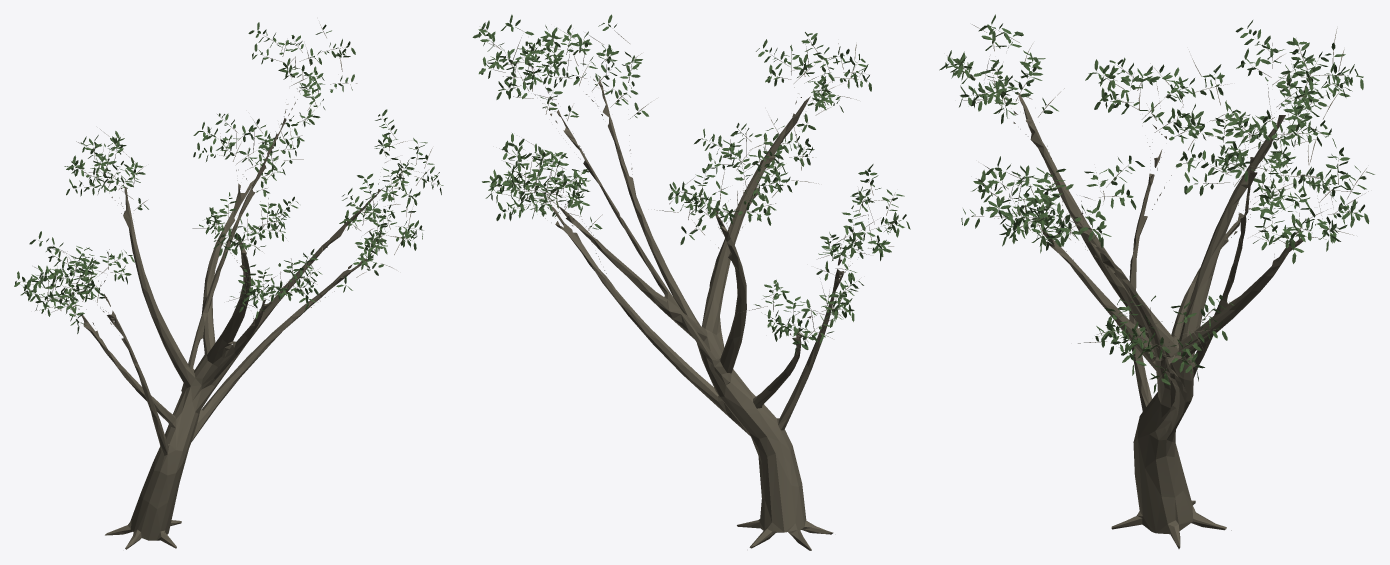
Rendered from CheneVert_2_Niveau1.fbx.
3 views of the same model, side by side, from view 1: azimuth 30°, elevation 25°; view 2: azimuth 150°, elevation 25°; view 3: azimuth 270°, elevation 25° (orthographic). The views are drawn at different scales.
Visible parts, largest first — view 1: CheneVert_2_Niveau1_Jeu; view 2: CheneVert_2_Niveau1_Jeu; view 3: CheneVert_2_Niveau1_Jeu.
Boxes of the visible parts, x1,y1,x2,y2 form: CheneVert_2_Niveau1_Jeu: (14,22,443,549); CheneVert_2_Niveau1_Jeu: (472,14,910,550); CheneVert_2_Niveau1_Jeu: (939,14,1374,548).
Bounding box in the file's own units: 427 × 485 × 329.
